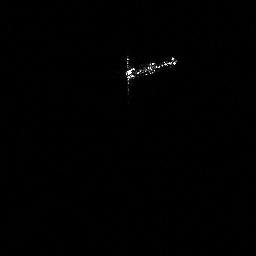ship: (125, 54, 179, 90)
